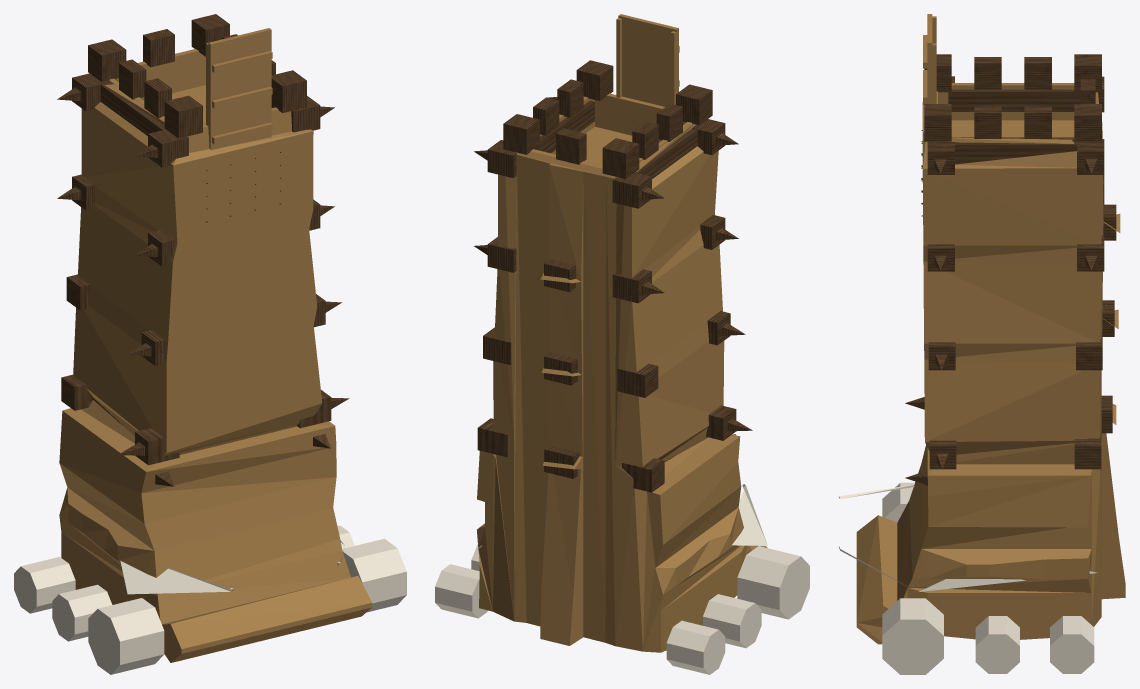
Rendered from ae_siege_tower_open_large_lod1.glb.
3 views of the same model, side by side, from view 1: azimuth 30°, elevation 25°; view 2: azimuth 150°, elevation 25°; view 3: azimuth 270°, elevation 25° (orthographic). The views are drawn at different scales.
Visible parts, largest first — view 1: siege_tower_open_large, drawbridge; view 2: siege_tower_open_large, drawbridge; view 3: siege_tower_open_large, drawbridge.
Boxes of the visible parts, left/top/right/bottom form: siege_tower_open_large: left=14, top=14, right=406, bottom=674; drawbridge: left=206, top=28, right=272, bottom=150; siege_tower_open_large: left=435, top=60, right=809, bottom=674; drawbridge: left=616, top=14, right=679, bottom=106; siege_tower_open_large: left=838, top=54, right=1125, bottom=674; drawbridge: left=923, top=14, right=936, bottom=147.
Size of the model in its own units: 67.27 by 133 by 59.65.
3 materials, 2 textured.
